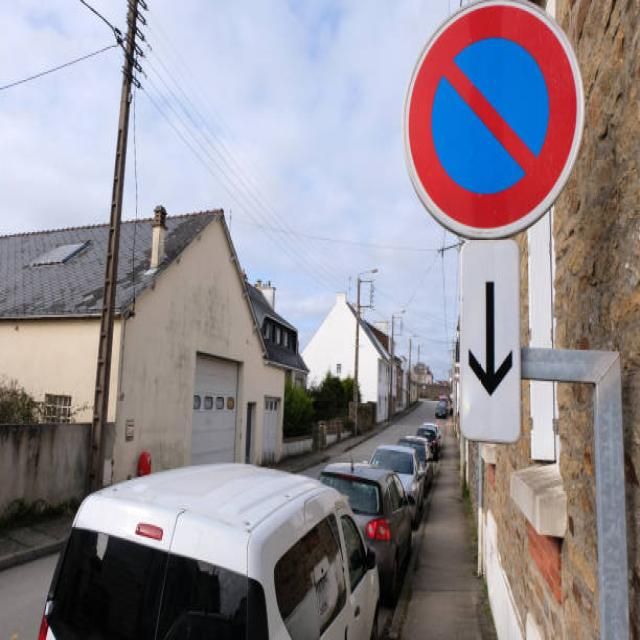forb_stopping: (402, 2, 585, 241)
